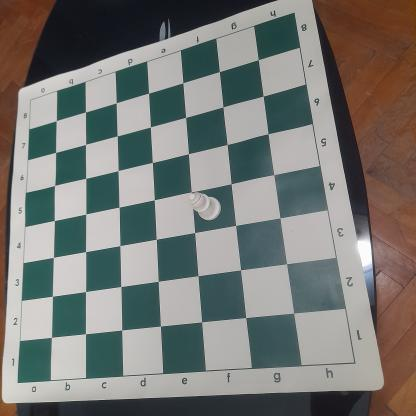white-bishop: (188, 190, 222, 222)
